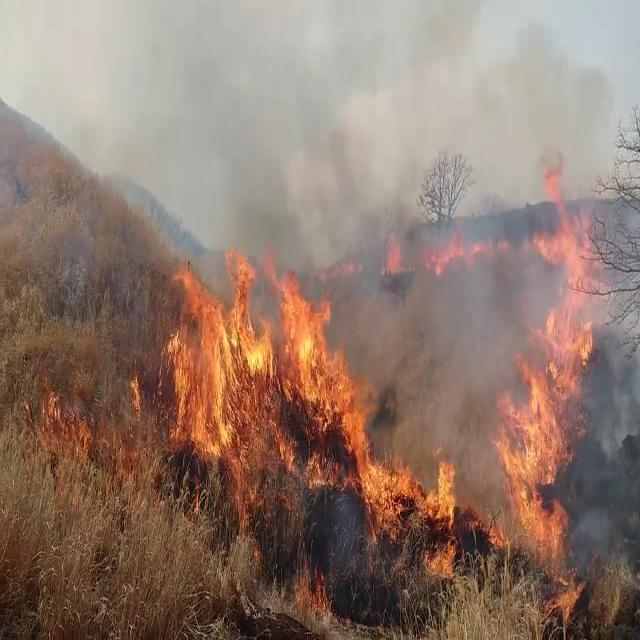Fire: (163, 230, 373, 490), (492, 171, 606, 611), (358, 445, 470, 573), (439, 206, 616, 272)
Smoke: (236, 0, 640, 318)
